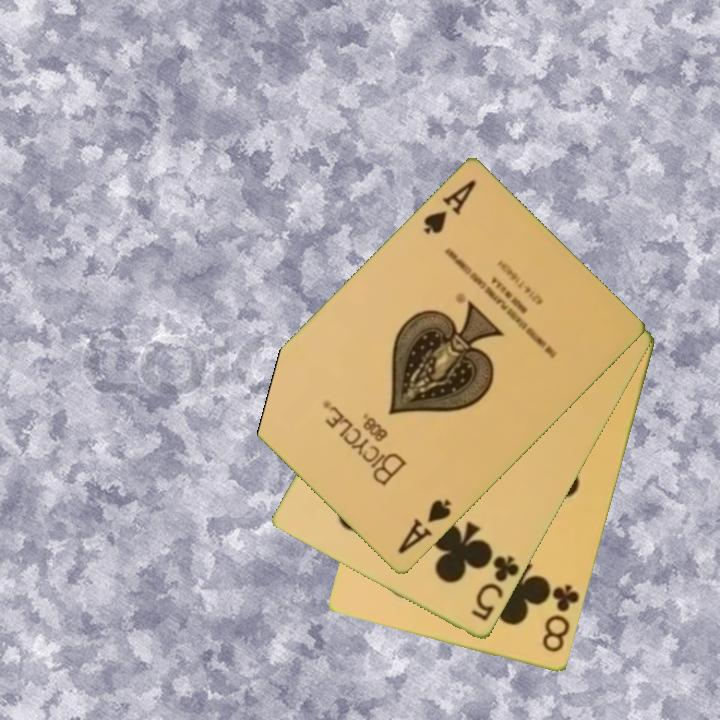5c: (468, 552, 523, 625)
8c: (539, 581, 583, 656)
As: (394, 496, 455, 558), (420, 177, 479, 238)
